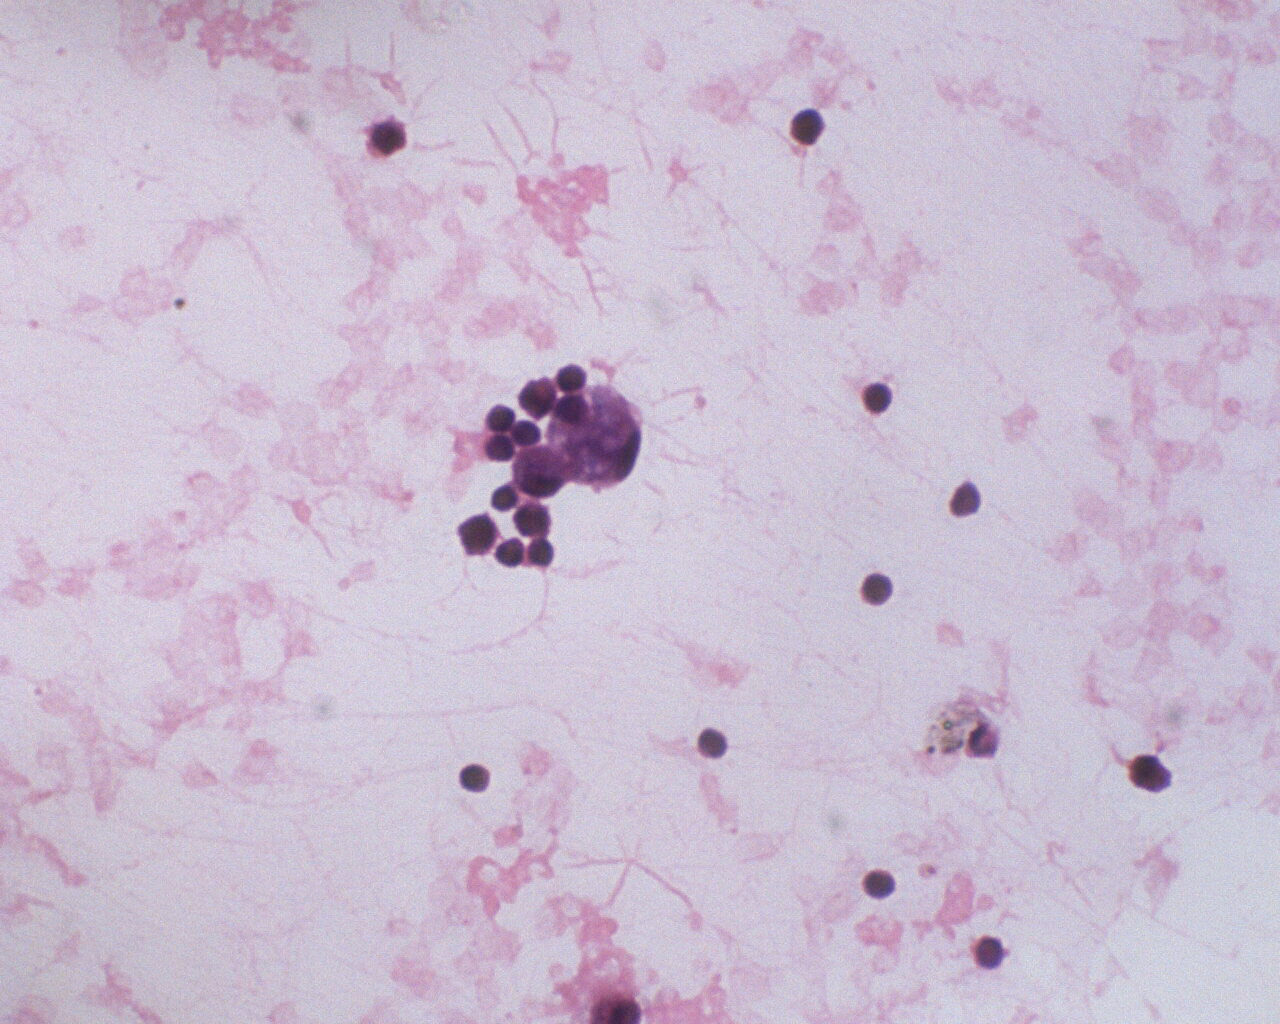histo: (552, 382, 641, 489)
lymph: (857, 567, 902, 612), (857, 377, 899, 417), (690, 725, 728, 764), (861, 865, 898, 904), (455, 761, 493, 796)
meso: (510, 438, 574, 503)
